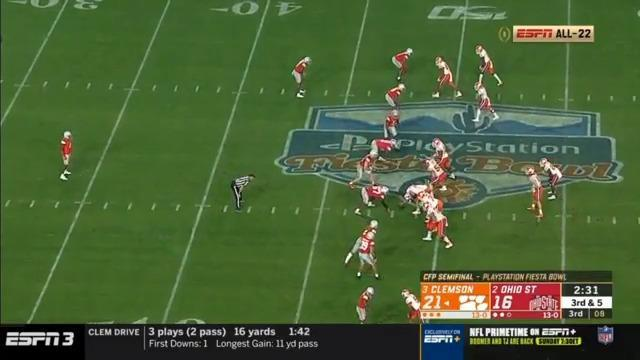player: (343, 220, 378, 268), (353, 231, 380, 283), (475, 44, 506, 89), (431, 56, 462, 100), (422, 207, 453, 250), (348, 148, 379, 190), (432, 137, 458, 181), (473, 85, 499, 128), (353, 184, 389, 215), (58, 126, 77, 183), (526, 167, 546, 221), (401, 184, 433, 216), (541, 157, 563, 202), (291, 56, 313, 100), (423, 159, 448, 194), (391, 47, 414, 83), (416, 193, 444, 221), (357, 285, 376, 324), (368, 139, 400, 161), (402, 288, 422, 322), (385, 83, 406, 113), (384, 108, 402, 141)
ref: (231, 171, 255, 214)
